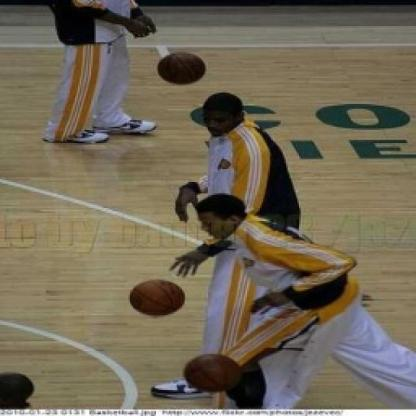basketball: (126, 272, 189, 326), (152, 46, 210, 90)
